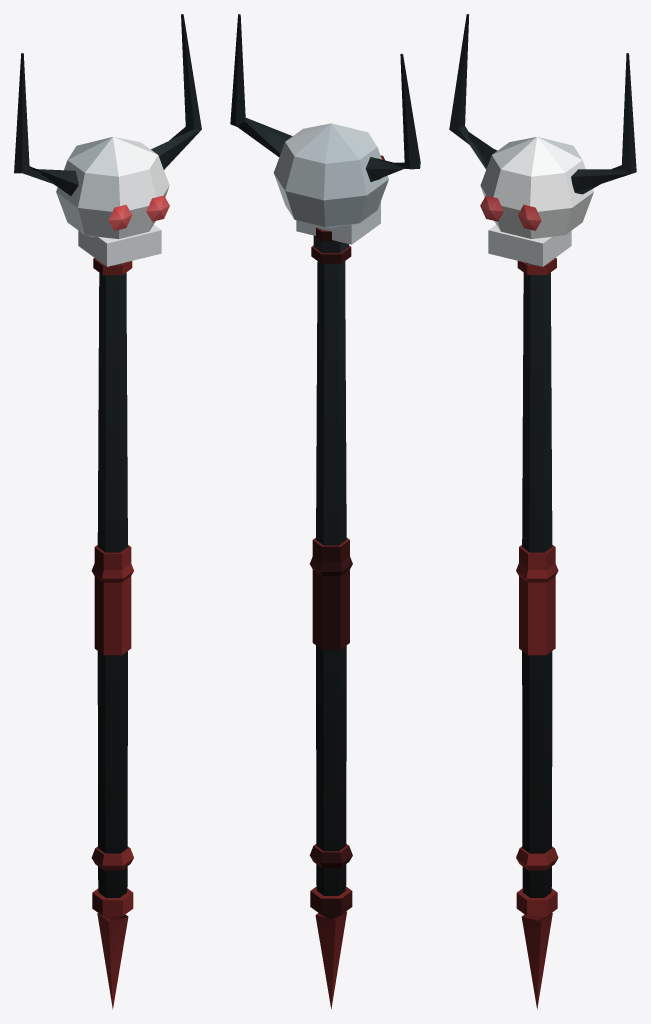
The model's file is mage_skullstaff_3.gltf.
3 views of the same model, side by side, from view 1: azimuth 30°, elevation 25°; view 2: azimuth 150°, elevation 25°; view 3: azimuth 330°, elevation 25° (orthographic).
Parts seen in each view (by area): view 1: mage_skullstaff_3; view 2: mage_skullstaff_3; view 3: mage_skullstaff_3.
Boxes of the visible parts, <box> form: mage_skullstaff_3: <box>14,14,201,1009</box>; mage_skullstaff_3: <box>230,14,420,1008</box>; mage_skullstaff_3: <box>449,14,636,1009</box>.
Bounding box in the file's own units: 0.6119 × 3.05 × 0.3151.
Materials: 1 (1 with a texture image).
